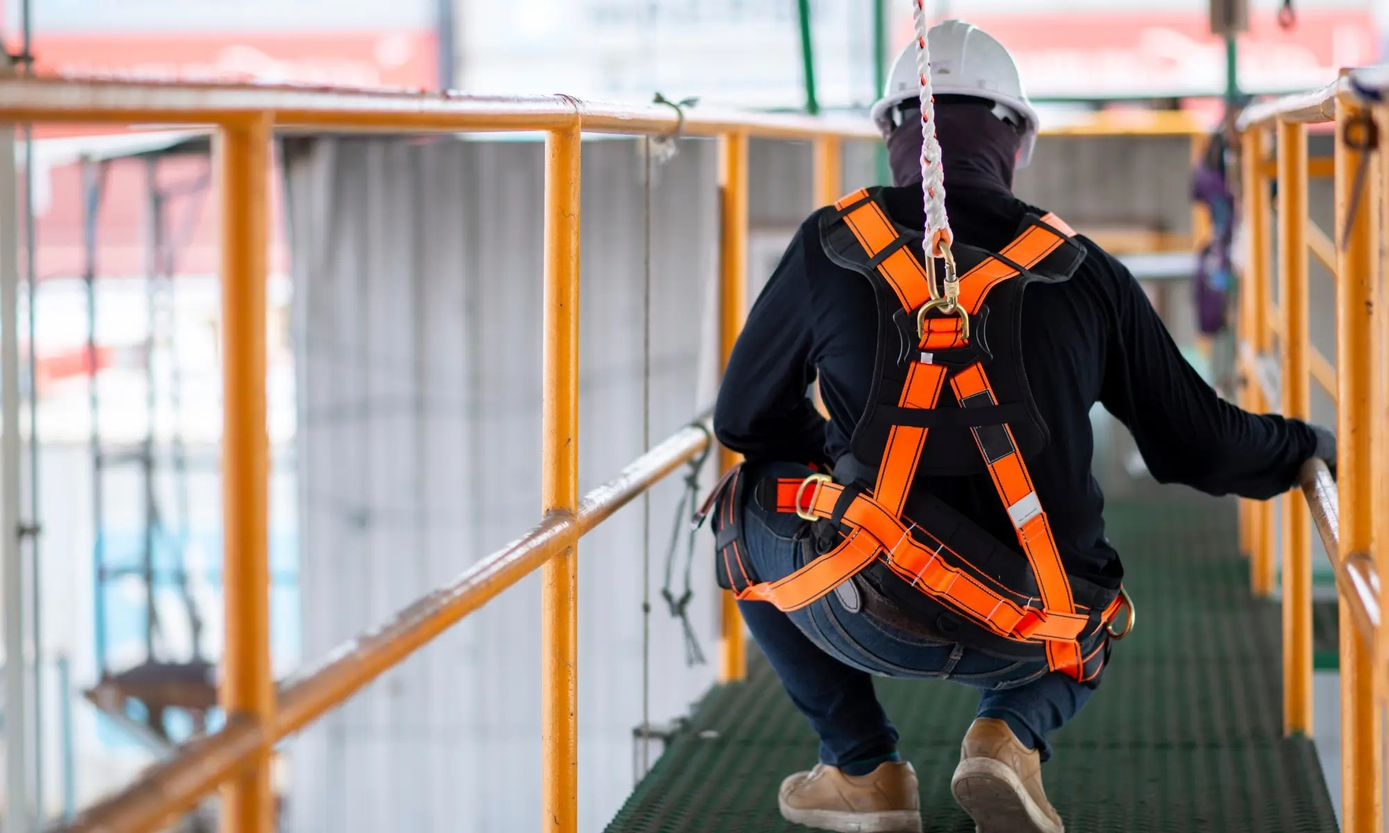Helmet: (868, 20, 1041, 131)
No_SafetyShoes: (952, 723, 1064, 831), (774, 763, 923, 833)
Person: (718, 14, 1125, 833)
Safety_Harness: (734, 186, 1114, 681)
